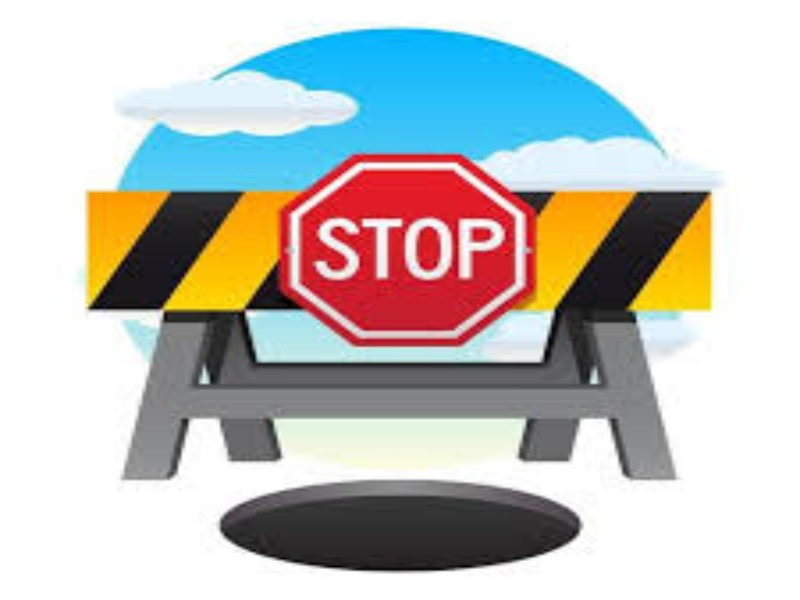Stop_Sign: (279, 146, 537, 347)
